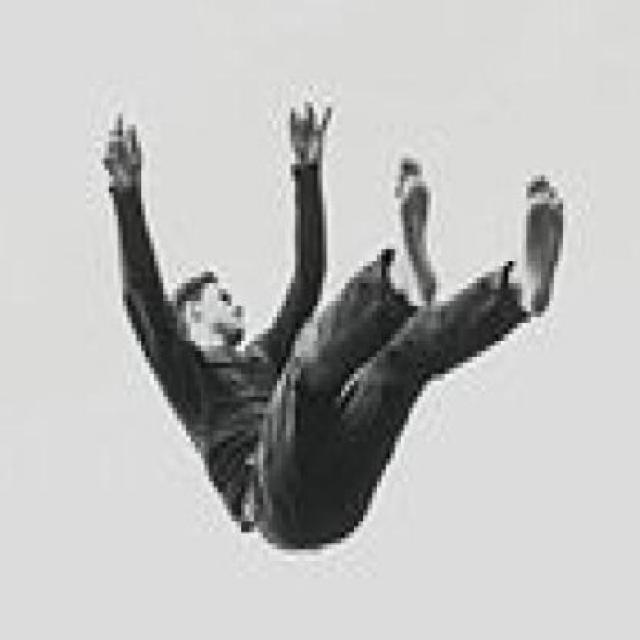fall: (102, 92, 567, 556)
